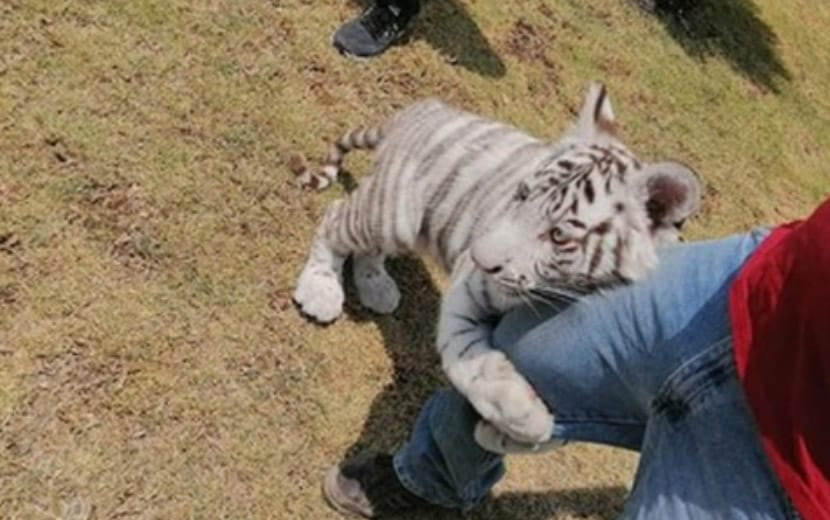Tigrew: (305, 86, 684, 436)
